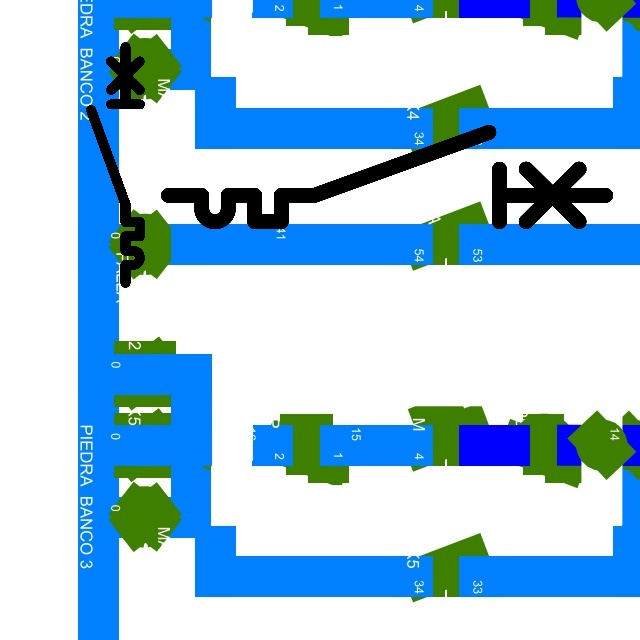interruptor_termomagnetico: (157, 121, 617, 233), (85, 41, 146, 289)
